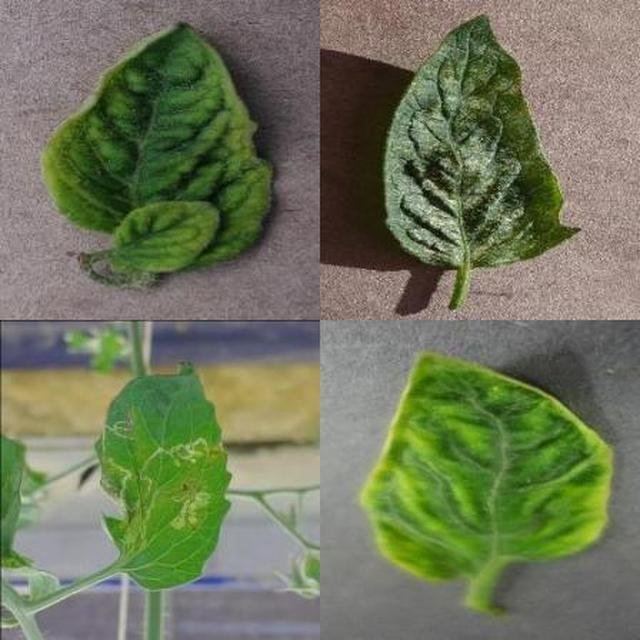Yellow Leaf Curl Virus: (149, 103, 640, 640)
